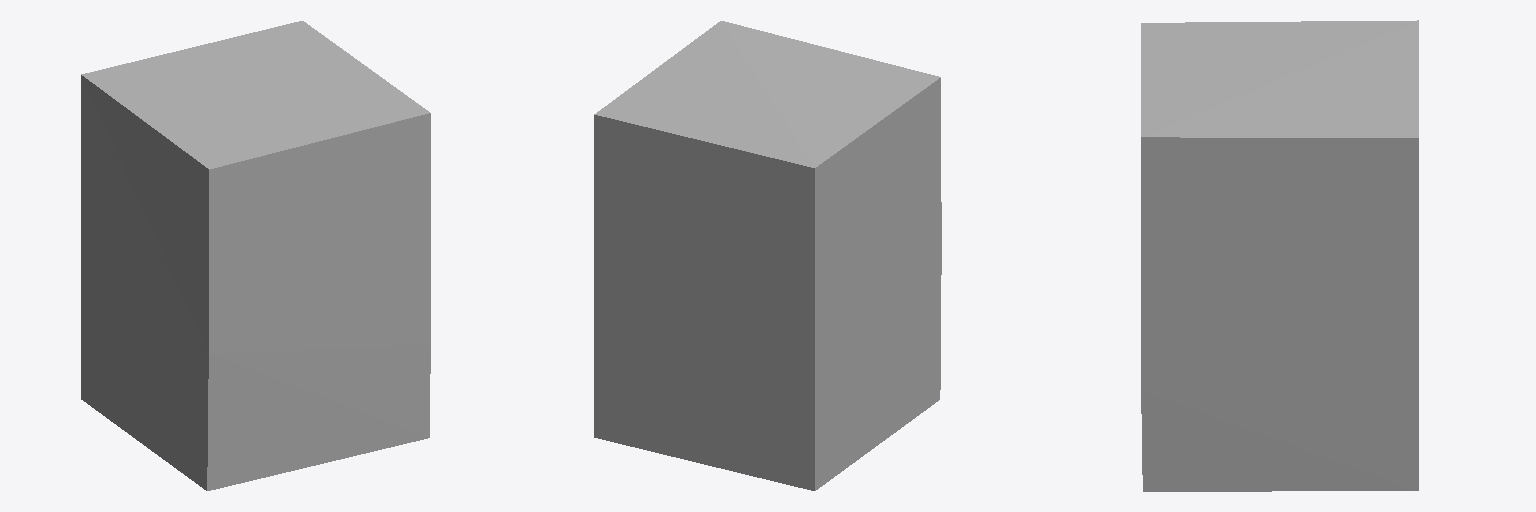
The robot description file, URDF, robot "root":
<?xml version='1.0' encoding='utf-8'?>
<robot name="root">
  <link name="link_001">
    <visual>
      <origin xyz="0 0 0" rpy="0 0 0" />
      <geometry>
        <mesh filename="81af411e9635ce542e12e30d1d3db22a34924b2434a499dd3398931bbc142bef_scale_891.stl" scale="1.0000E+00 1.0000E+00 1.0000E+00" />
      </geometry>
      <material name="">
        <color rgba="7.50E-01 7.50E-01 7.50E-01 1" />
      </material>
    </visual>
    <collision>
      <origin xyz="0 0 0" rpy="0 0 0" />
      <geometry>
        <mesh filename="81af411e9635ce542e12e30d1d3db22a34924b2434a499dd3398931bbc142bef_scale_891.stl" scale="1.0000E+00 1.0000E+00 1.0000E+00" />
      </geometry>
    </collision>
  </link>
</robot>

--- Facts derived from the render (not from the file) ---
3 views of the same robot in one strip: view 1: azimuth 30°, elevation 25°; view 2: azimuth 150°, elevation 25°; view 3: azimuth 270°, elevation 25° (orthographic).
Robot: root — 1 links, 0 joints (none); root link link_001; default pose: every joint at zero.
Visible links, largest first — view 1: link_001; view 2: link_001; view 3: link_001.
Link boxes in pixels (box(x1,y1,x2,y2)): link_001: box(81, 21, 430, 490); link_001: box(594, 21, 941, 490); link_001: box(1141, 20, 1418, 491).
Bounding box of the posed robot: 0.0785 × 0.0782 × 0.11 m (x, y, z).
Meshes: 1 distinct files referenced, 1 mesh visuals loaded (1 binary STL).
